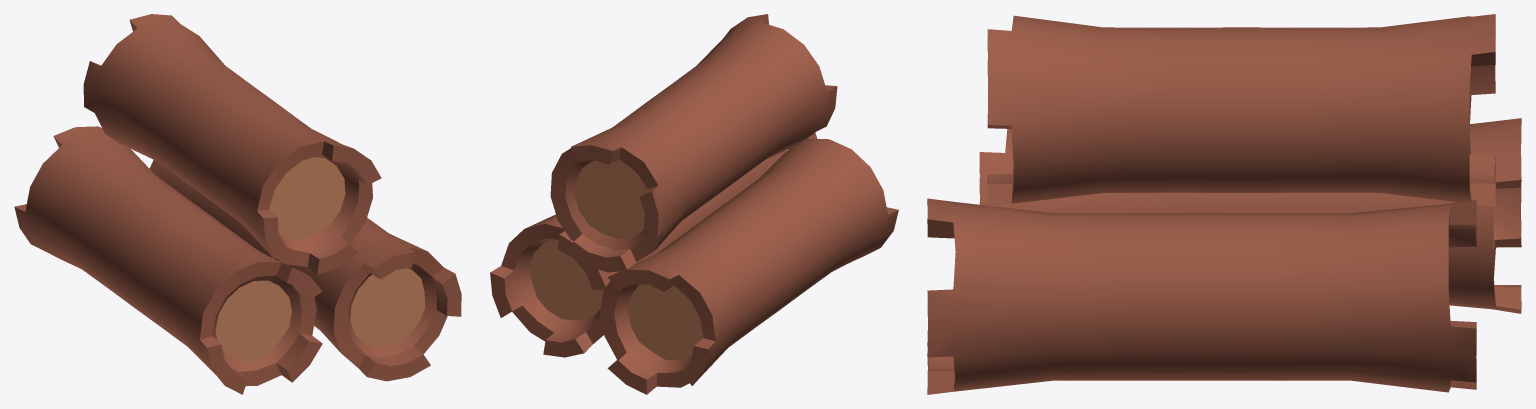
Rendered from logs.gltf.glb.
The picture shows the model from 3 angles, left to right: view 1: azimuth 30°, elevation 25°; view 2: azimuth 150°, elevation 25°; view 3: azimuth 270°, elevation 25°; orthographic projection. The views are drawn at different scales.
Parts seen in each view (by area): view 1: logs; view 2: logs; view 3: logs.
Part boxes in pixels (x1=…): logs: x1=14, y1=14, x2=461, y2=394; logs: x1=490, y1=14, x2=898, y2=394; logs: x1=927, y1=14, x2=1521, y2=394.
Size of the model in its own units: 0.6513 by 0.6051 by 1.01.
